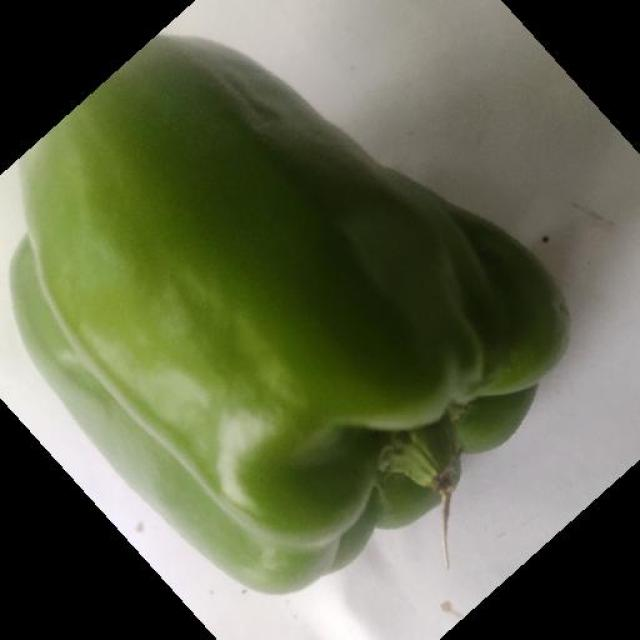Fresh_Capsicum: (19, 65, 544, 572)
